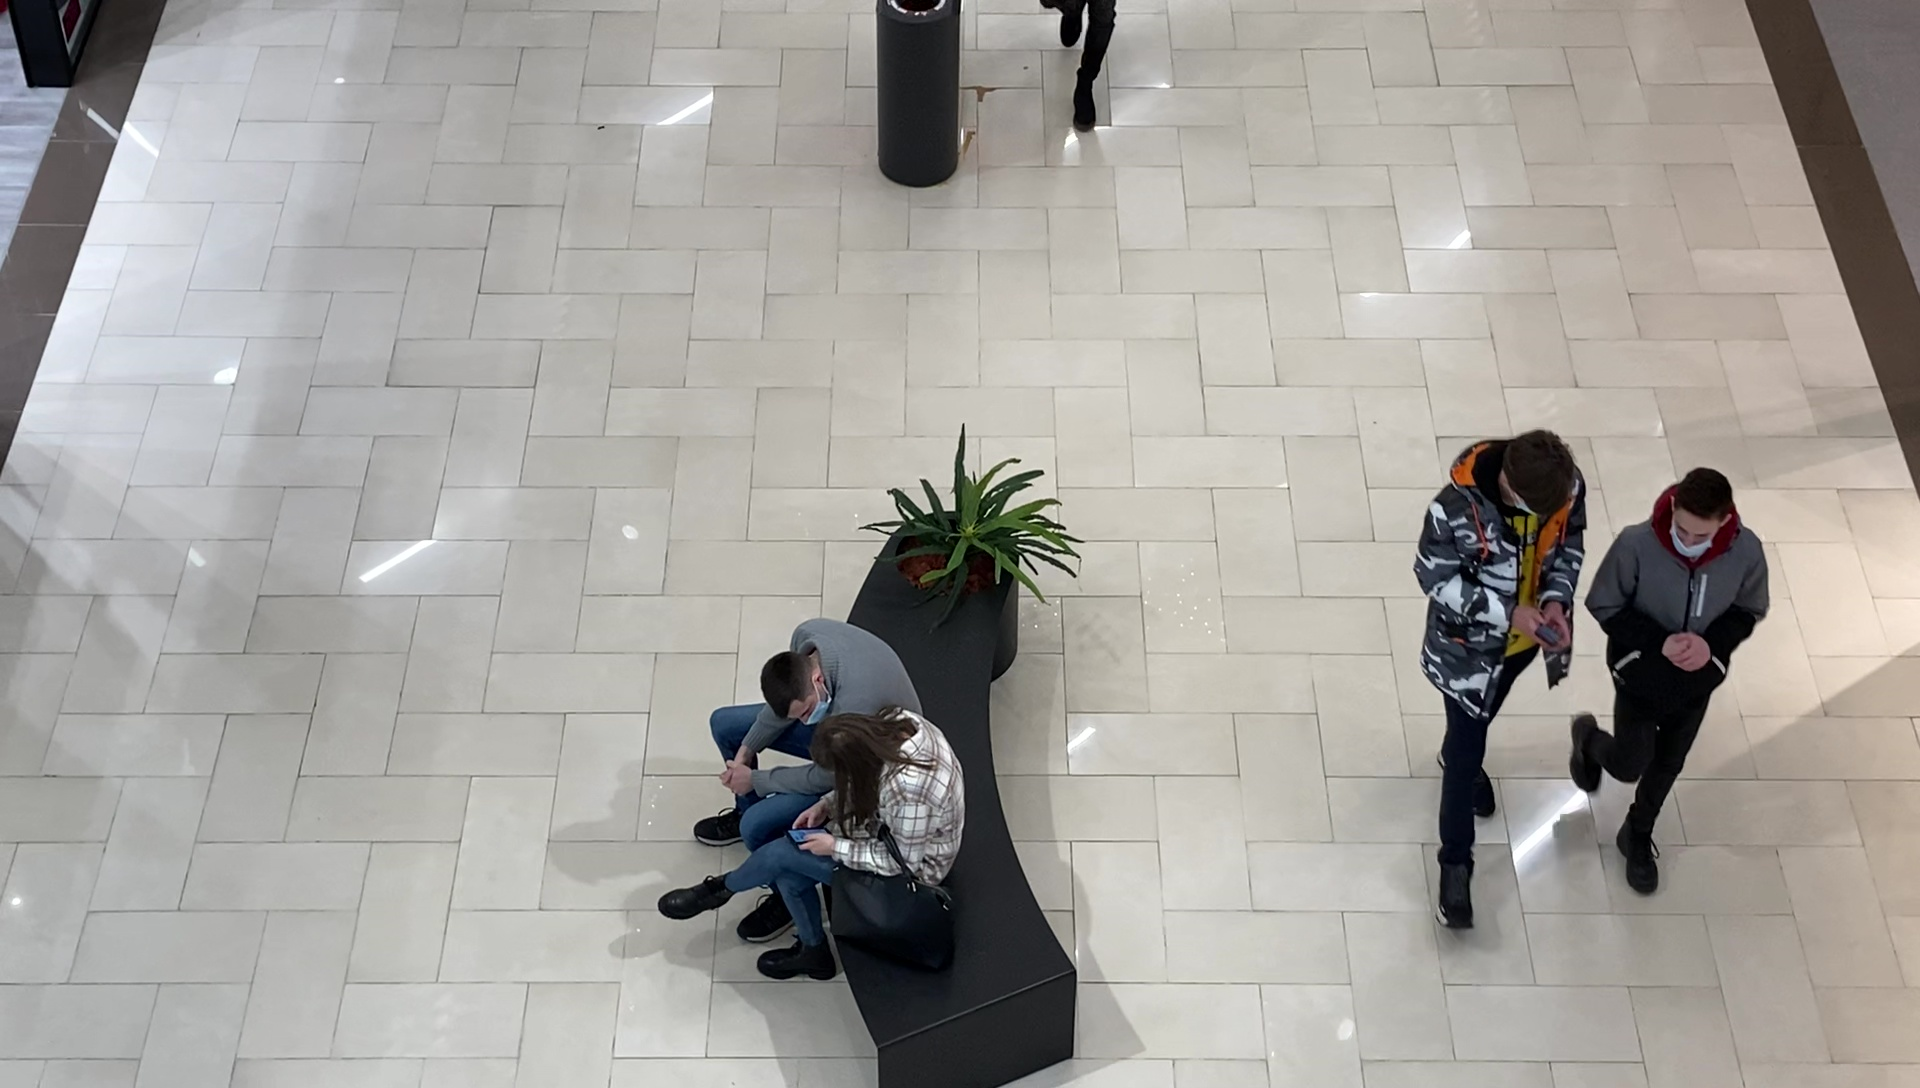person: (1413, 430, 1591, 929), (1575, 464, 1770, 889)
